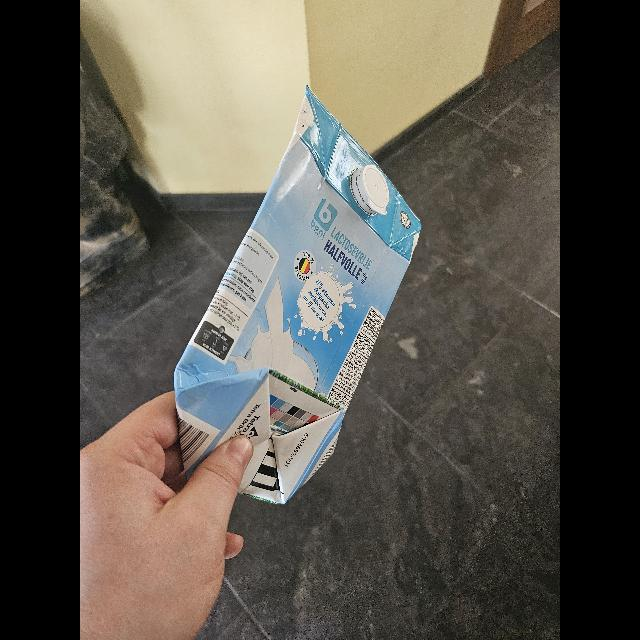Cardboard: (174, 80, 422, 506)
Plastic: (348, 160, 389, 218)
